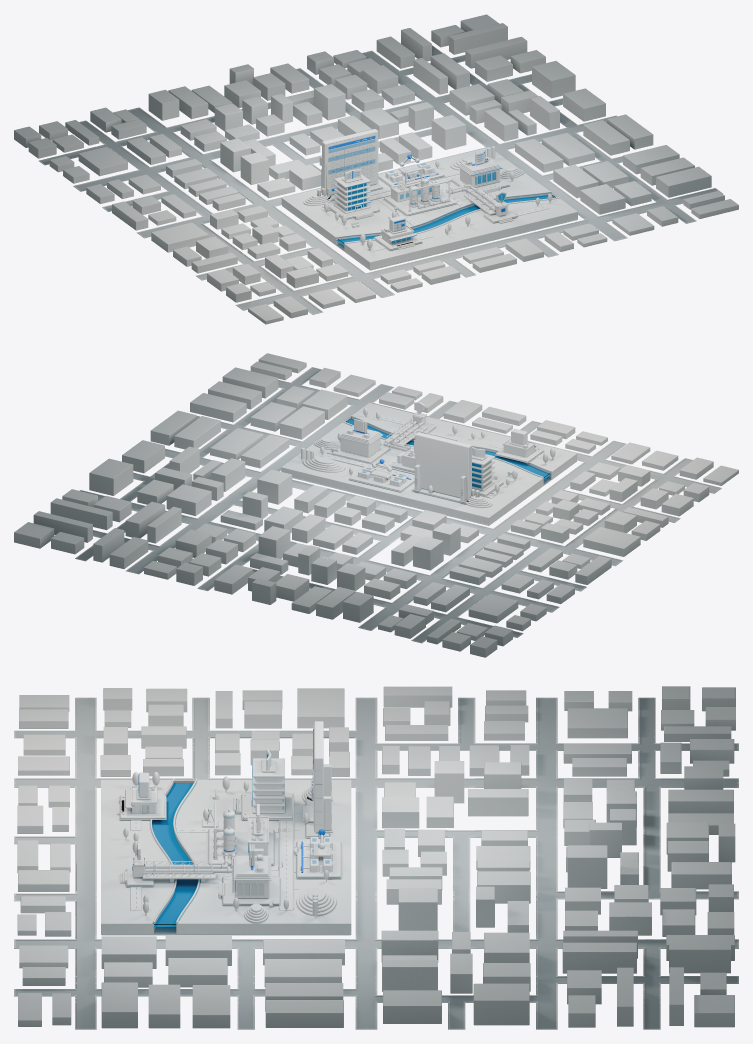
The picture shows the model from 3 angles, top to bottom: view 1: azimuth 30°, elevation 25°; view 2: azimuth 150°, elevation 25°; view 3: azimuth 270°, elevation 25°; orthographic projection. The views are drawn at different scales.
Visible parts, largest first — view 1: Context V10 · Baked city buildings, Context V10 · Baked connected streets and curbs, V10 · Baked original site and inlays, zone_table, zone_price, zone_knowledge, zone_report, zone_risk, zone_import, zone_review; view 2: Context V10 · Baked city buildings, Context V10 · Baked connected streets and curbs, V10 · Baked original site and inlays, zone_table, zone_report, zone_review, zone_risk, zone_knowledge, zone_import; view 3: Context V10 · Baked city buildings, Context V10 · Baked connected streets and curbs, V10 · Baked original site and inlays, zone_report, zone_knowledge, zone_price, zone_risk, zone_table, zone_review, zone_import.
Part boxes in pixels (<box>): Context V10 · Baked city buildings: <box>14,14,738,324</box>; Context V10 · Baked connected streets and curbs: <box>39,45,722,314</box>; V10 · Baked original site and inlays: <box>281,146,577,270</box>; zone_table: <box>321,129,382,200</box>; zone_price: <box>383,168,457,215</box>; zone_knowledge: <box>328,169,379,219</box>; zone_report: <box>451,149,509,193</box>; zone_risk: <box>445,184,516,223</box>; zone_import: <box>373,215,422,250</box>; zone_review: <box>378,154,444,186</box>; Context V10 · Baked city buildings: <box>14,353,738,657</box>; Context V10 · Baked connected streets and curbs: <box>75,367,721,643</box>; V10 · Baked original site and inlays: <box>281,402,577,525</box>; zone_table: <box>411,432,471,504</box>; zone_report: <box>331,419,390,463</box>; zone_review: <box>348,459,414,492</box>; zone_risk: <box>383,402,436,451</box>; zone_knowledge: <box>472,447,503,495</box>; zone_import: <box>495,428,544,463</box>; Context V10 · Baked city buildings: <box>17,686,735,1028</box>; Context V10 · Baked connected streets and curbs: <box>14,697,738,1029</box>; V10 · Baked original site and inlays: <box>101,759,351,935</box>; zone_report: <box>219,844,280,905</box>; zone_knowledge: <box>233,749,292,819</box>; zone_price: <box>208,802,274,865</box>; zone_risk: <box>120,842,235,886</box>; zone_table: <box>302,721,332,837</box>; zone_review: <box>296,829,341,878</box>; zone_import: <box>117,772,166,819</box>.
Size of what is drawn, in the model's own units: 78.36 by 10.12 by 72.36.
19 materials, 10 textured.
